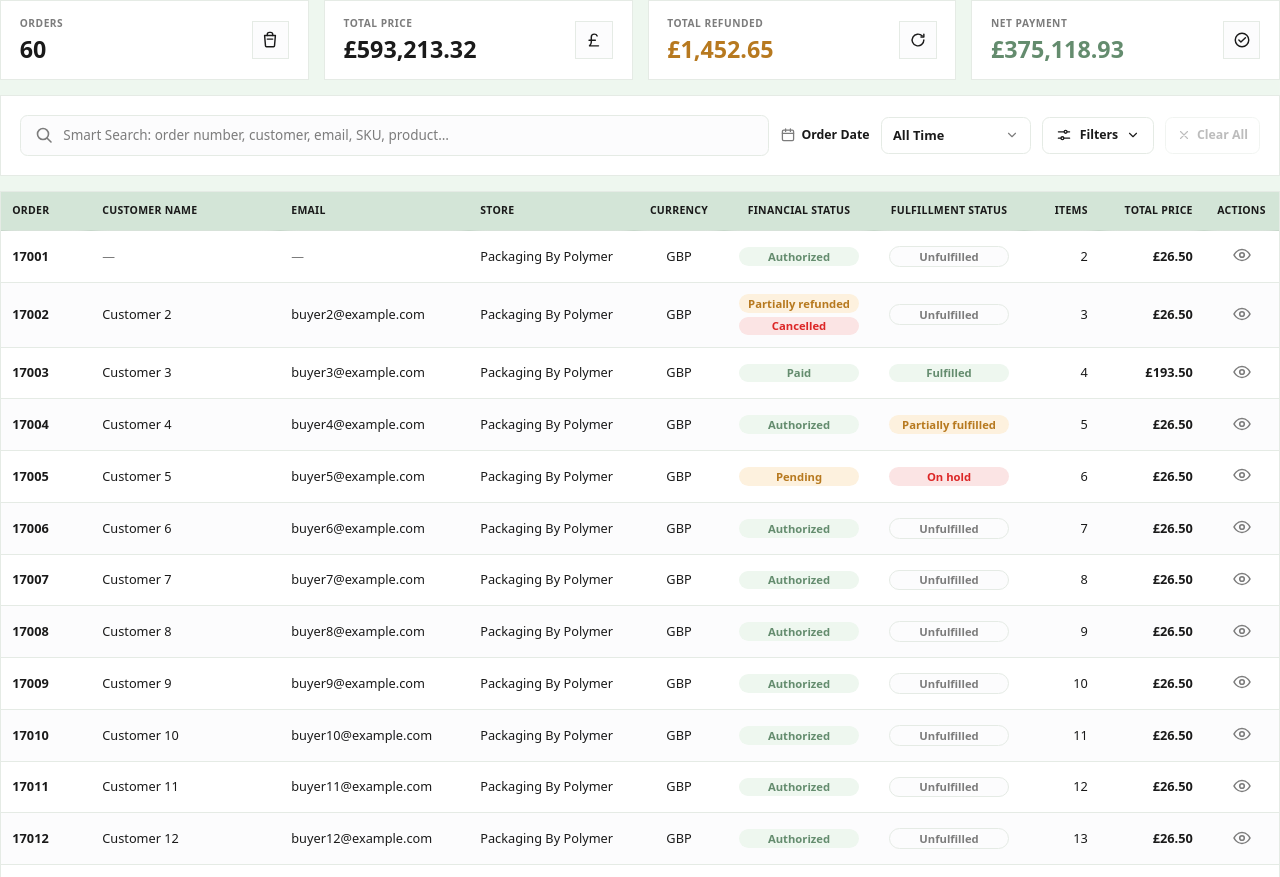
OrdersPage › starts with the filter grid collapsed and reveals it from the Filters button
Expected: the text "17002" is shown, [12,305,49,323]
Click the button "Filters" at x=1098, y=135, box [1042,117,1154,154]
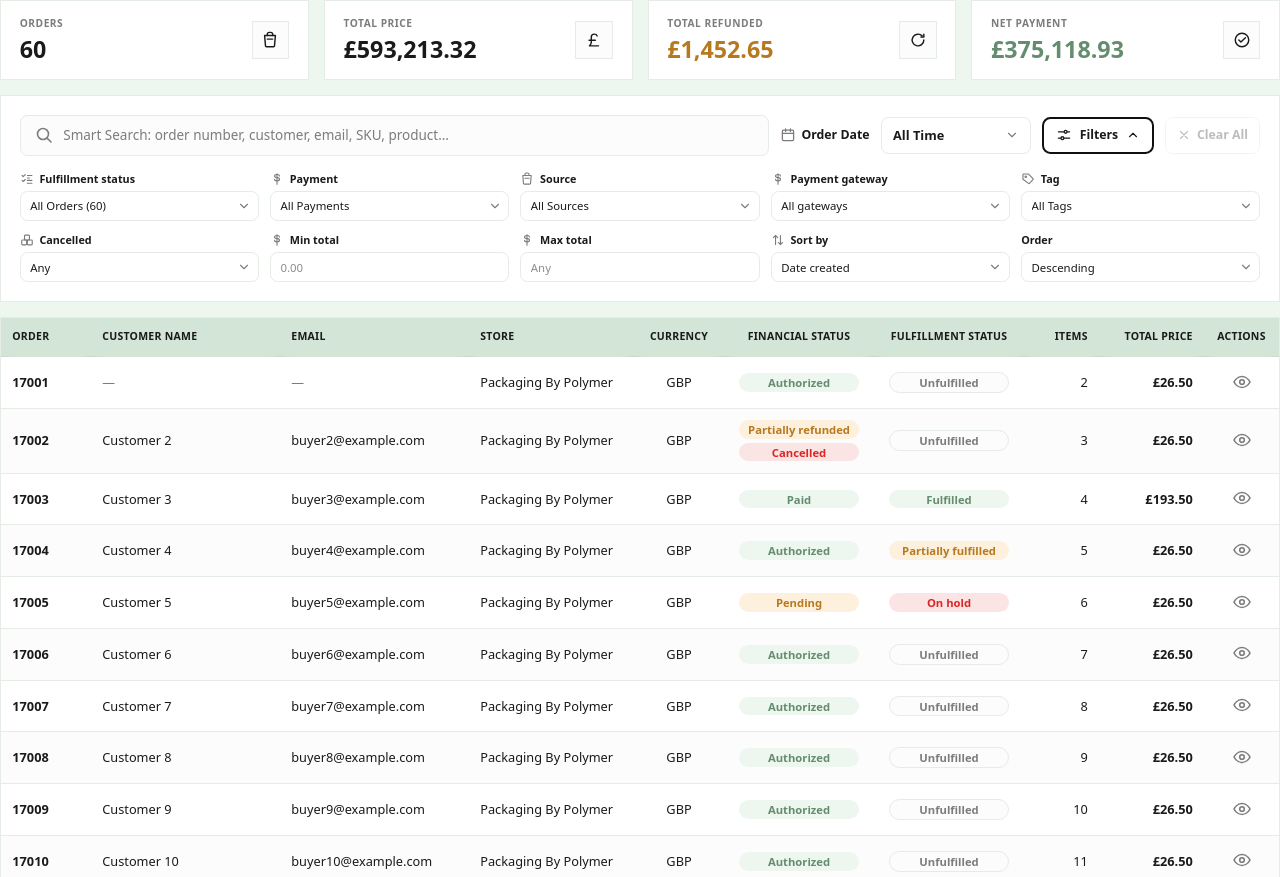
Expected: the button "Filters" is expanded, [1042,117,1154,154]
